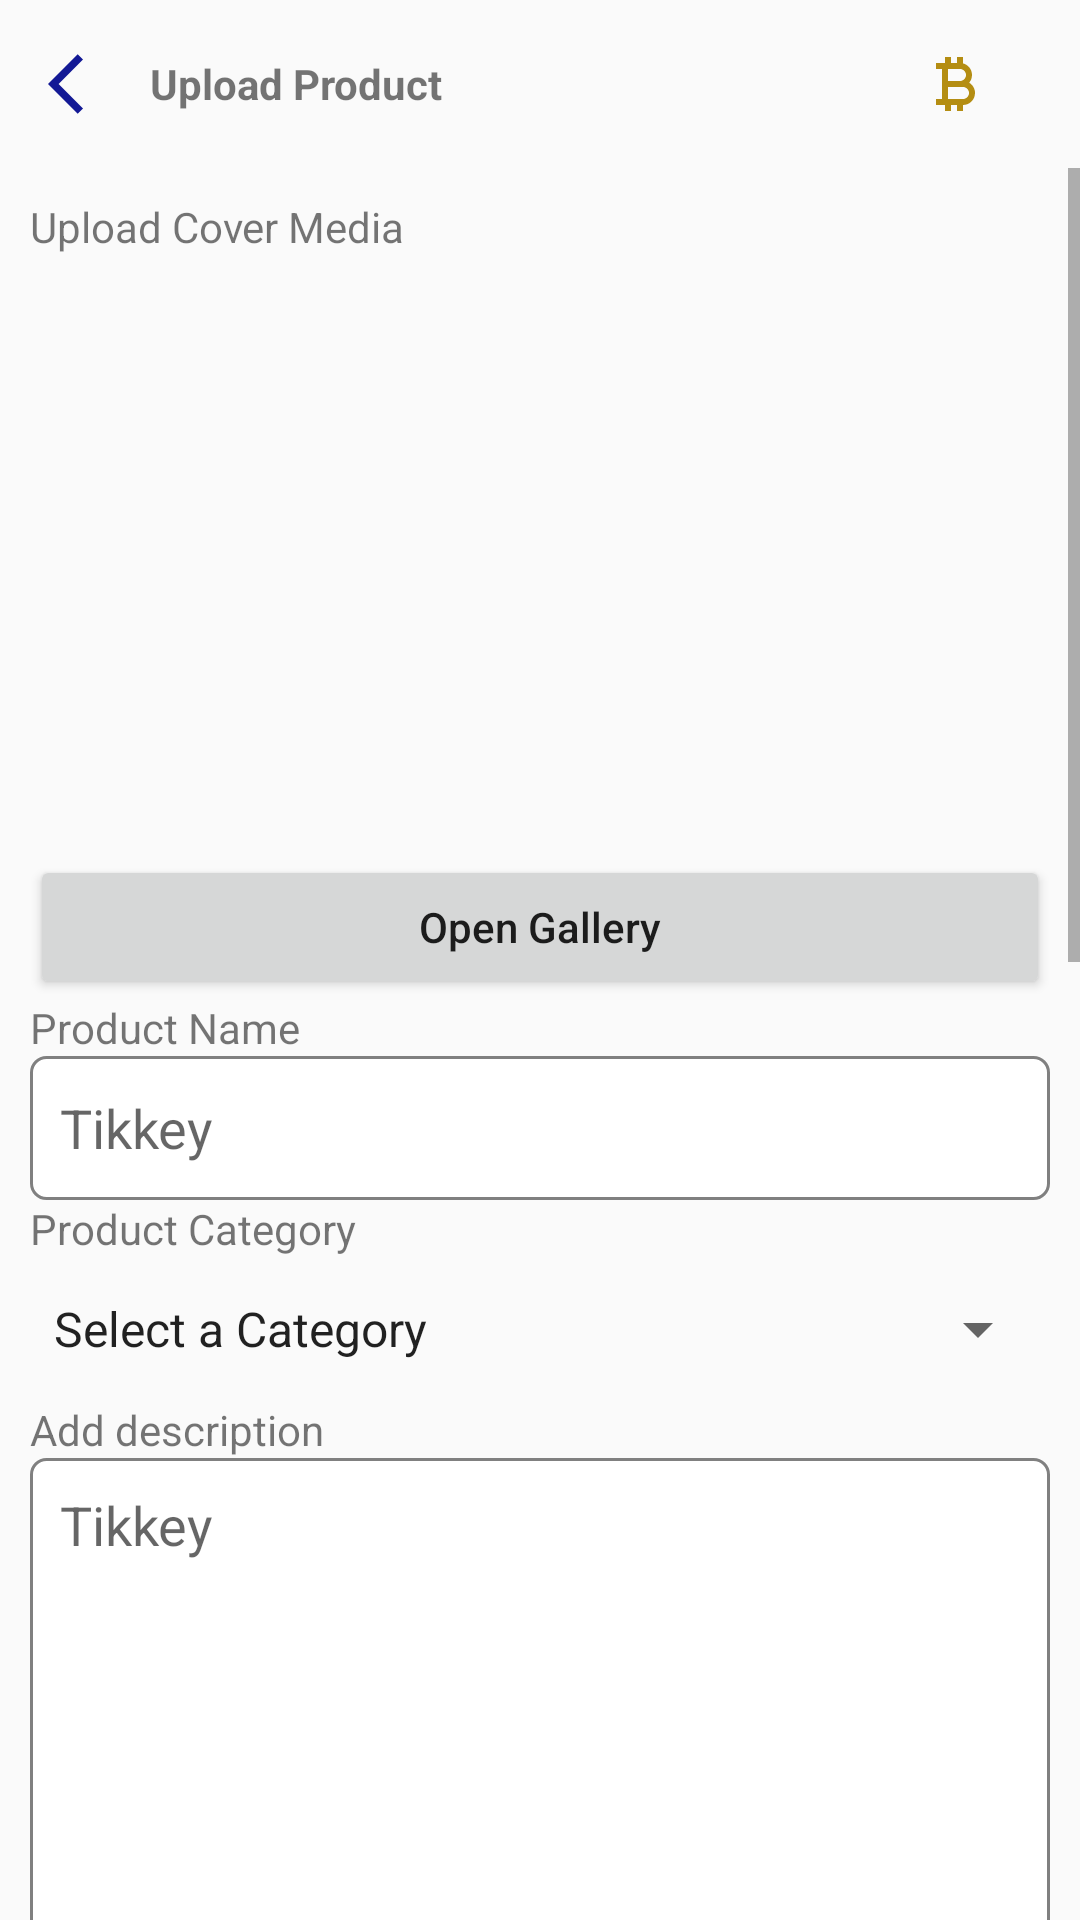

Icons on this 1080px x 1920px Android screen, each with its box as Rect(x1, y1, x2, y2):
arrow back: Rect(48, 54, 83, 114)
